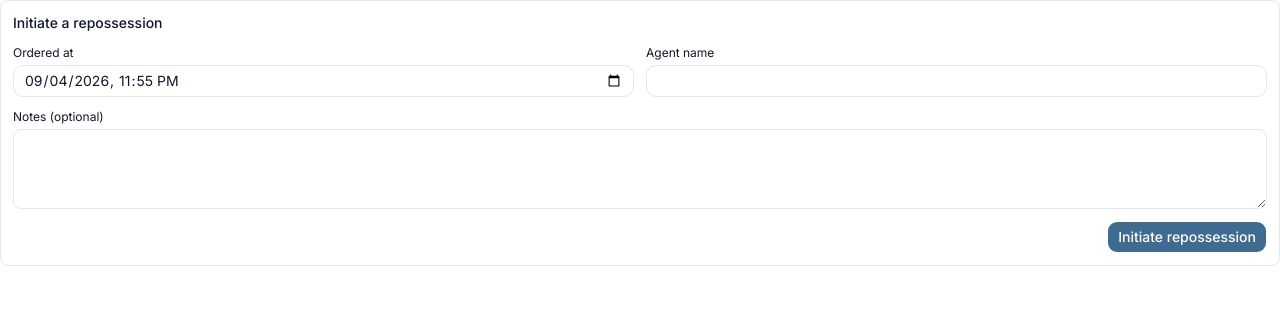
it: InitiateRepossessionForm › surfaces backend errors
The image size is (1280, 311).
Type "Alice" into the field with test id "initiate-repo-agent". click: (956, 81)
box: [646, 65, 1267, 97]
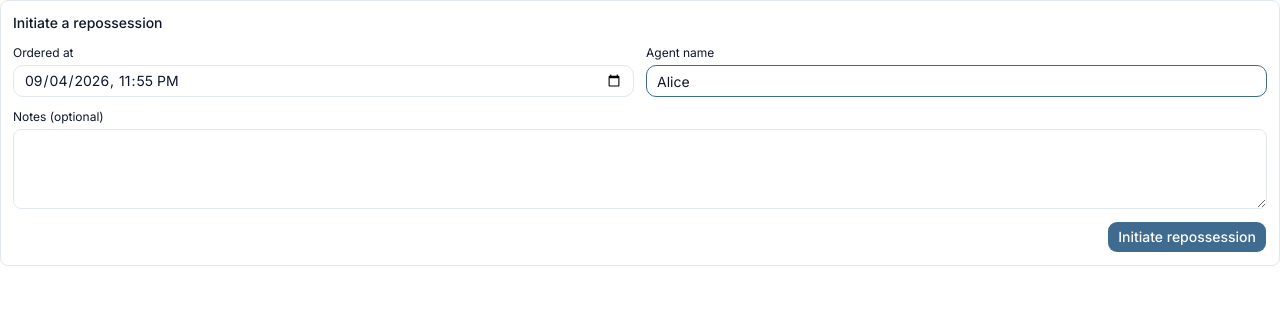
Click the button with test id "initiate-repo-submit". click: click(1187, 237)
box: [1107, 221, 1267, 253]
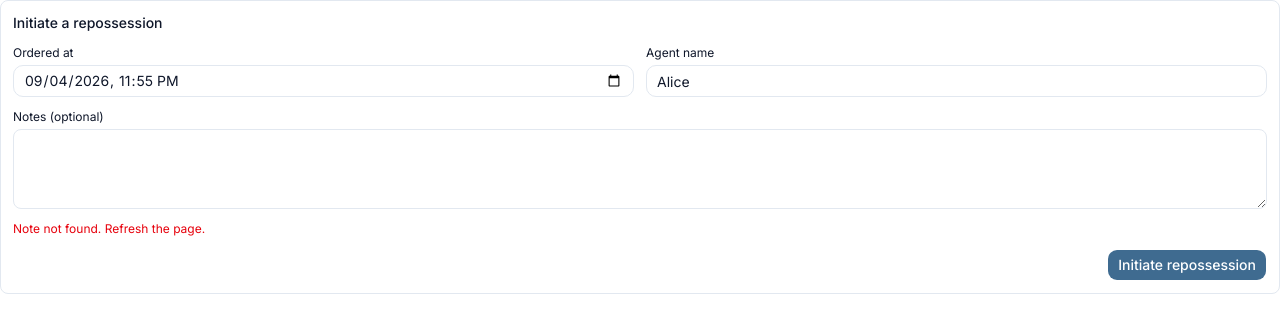
Now the text with test id "initiate-repo-error" shows "Note not found", box [13, 221, 205, 236]
